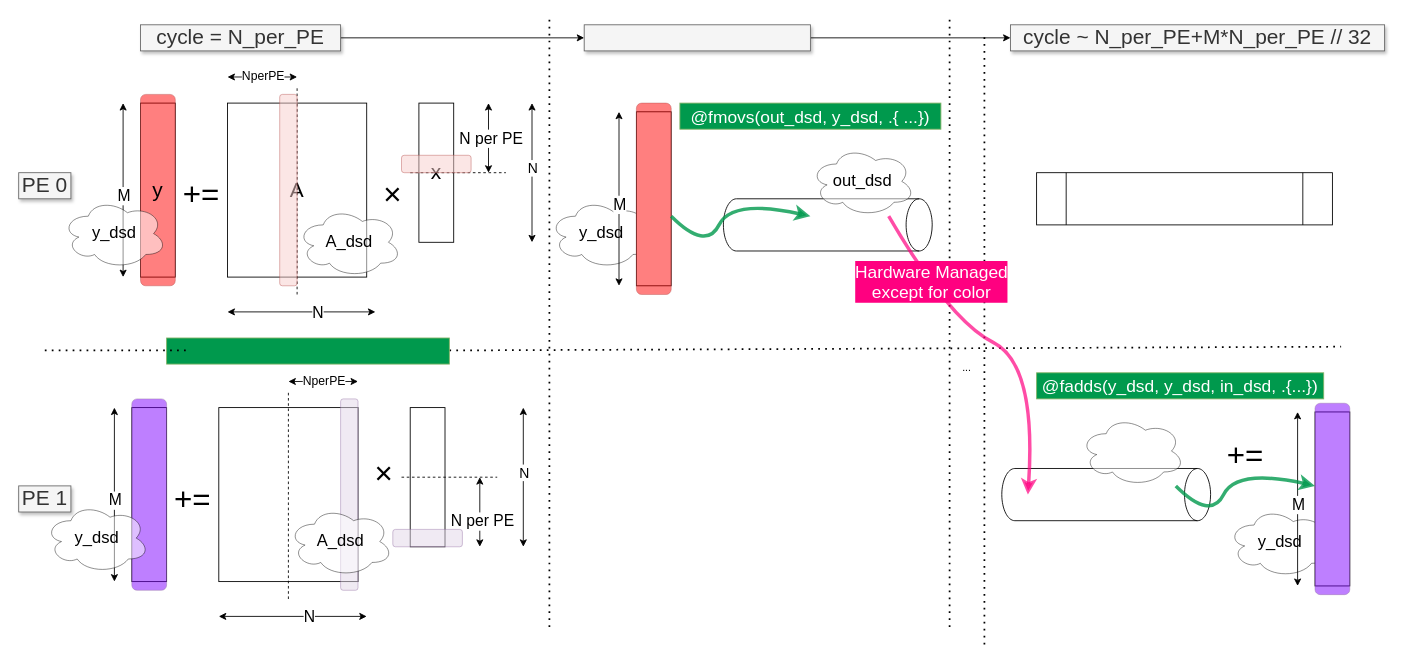
Image size: 1405x661. Some labels were removed from this diagram. Here are the shapes that lost their labels. From the top down, the centre of each, then its label:
At point (698, 38): "cycle = N_per_PE+1".
At point (1184, 198): "exit_task is activated".
At point (827, 224): "output_queue".
At point (307, 350): "@fmacs(y_dsd, y_dsd, A_dsd, x[i])".
At point (1132, 450): "in_dsd".
At point (1106, 494): "input_queue".
